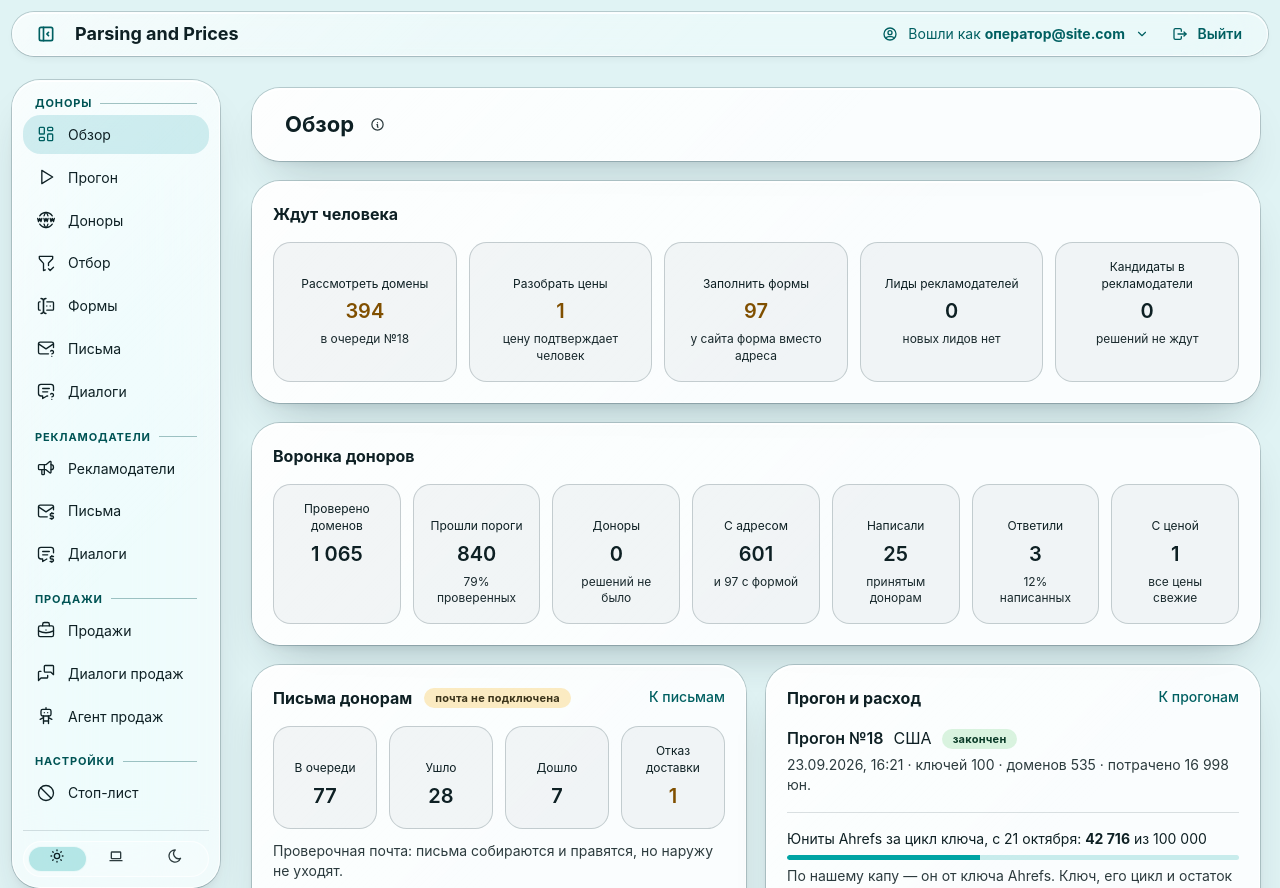
Test: меню у почты › «Вошли как» — в шапке, роль, права и смена пароля — в её меню
Check: the text "Сменить пароль" is not shown
Click the button "Вошли как оператор@site.com" at {"x": 1016, "y": 34}, box [876,21,1155,47]
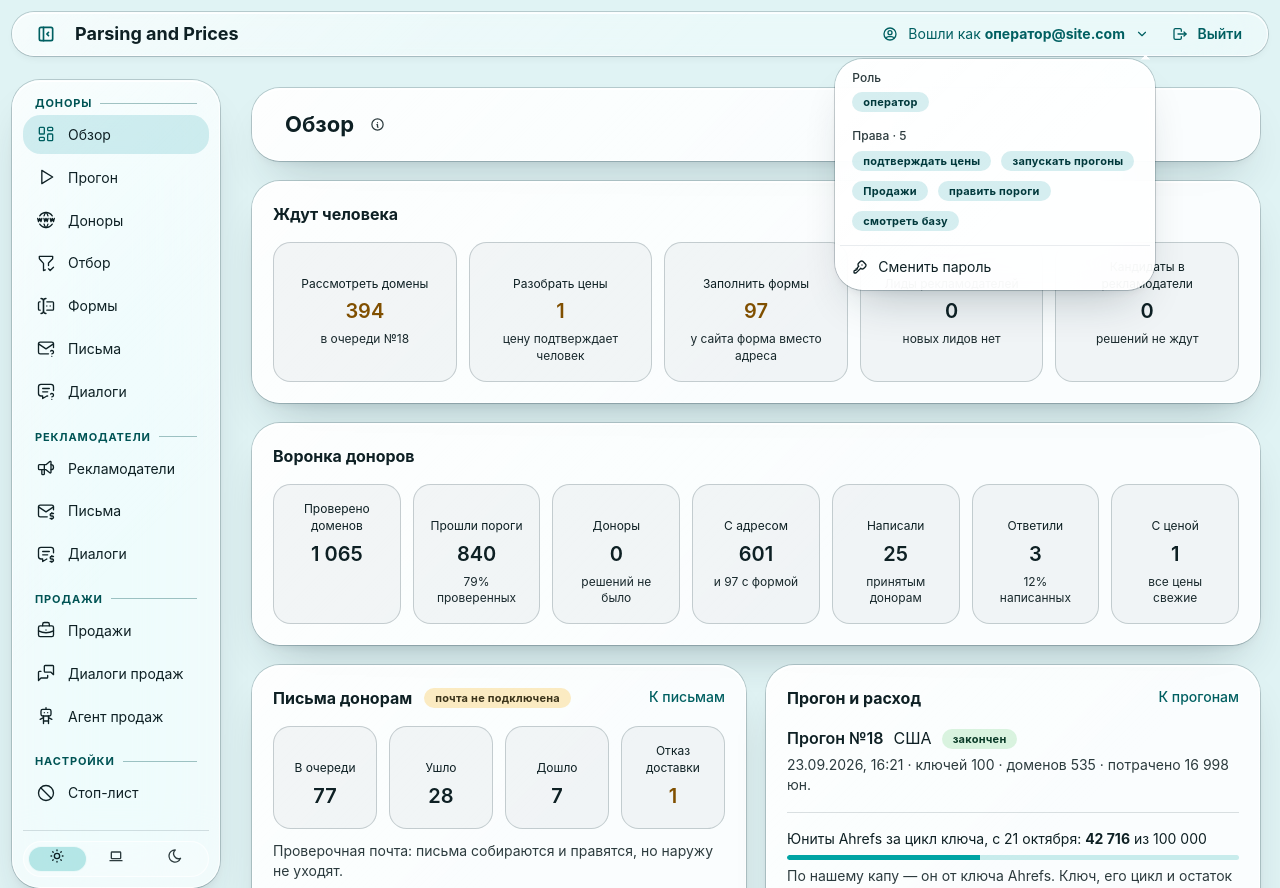
Check: the text "оператор" is shown, box [863,93,918,111]
Check: the text "подтверждать цены" is shown, box [863,152,980,170]
